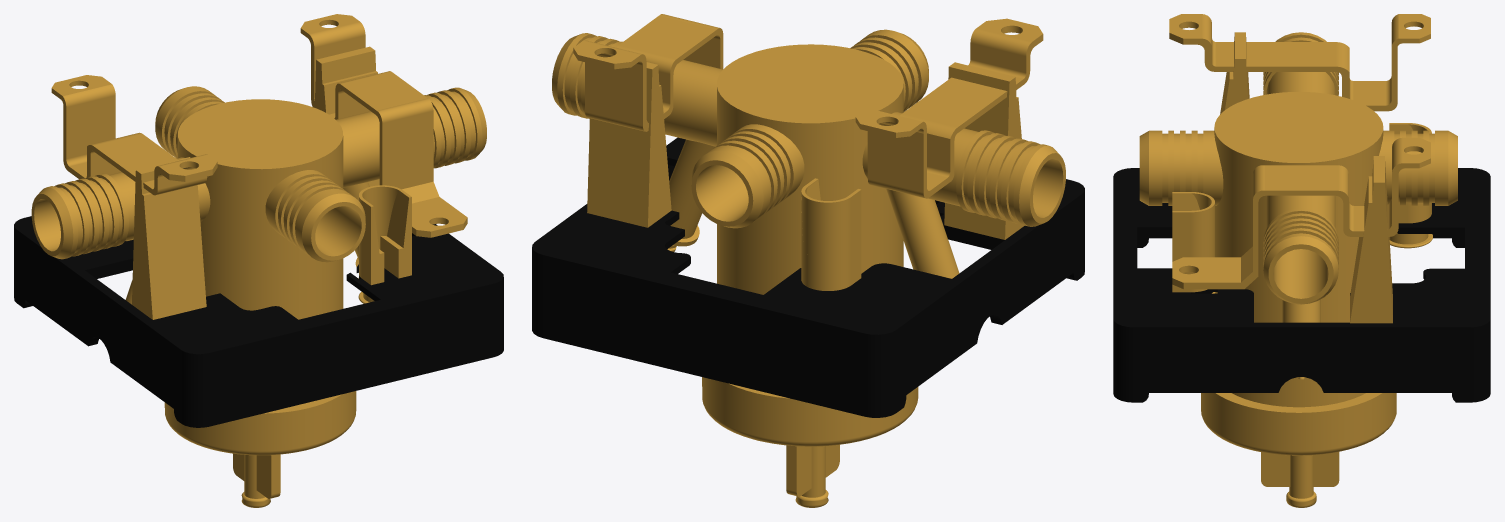
Rendered from delta_r10000_shower_valve.glb.
3 renders of one model, left to right at view 1: azimuth 30°, elevation 25°; view 2: azimuth 150°, elevation 25°; view 3: azimuth 270°, elevation 25°, orthographic. The views are drawn at different scales.
Parts seen in each view (by area): view 1: Solid1 (×14); view 2: Solid1 (×15); view 3: Solid1 (×18).
Part boxes in pixels (x1,y1,x2,y2): Solid1 (×14): [14, 14, 503, 507]; Solid1 (×15): [532, 14, 1084, 507]; Solid1 (×18): [1113, 14, 1490, 507].
Bounding box in the file's own units: 0.135 × 0.124 × 0.102.
